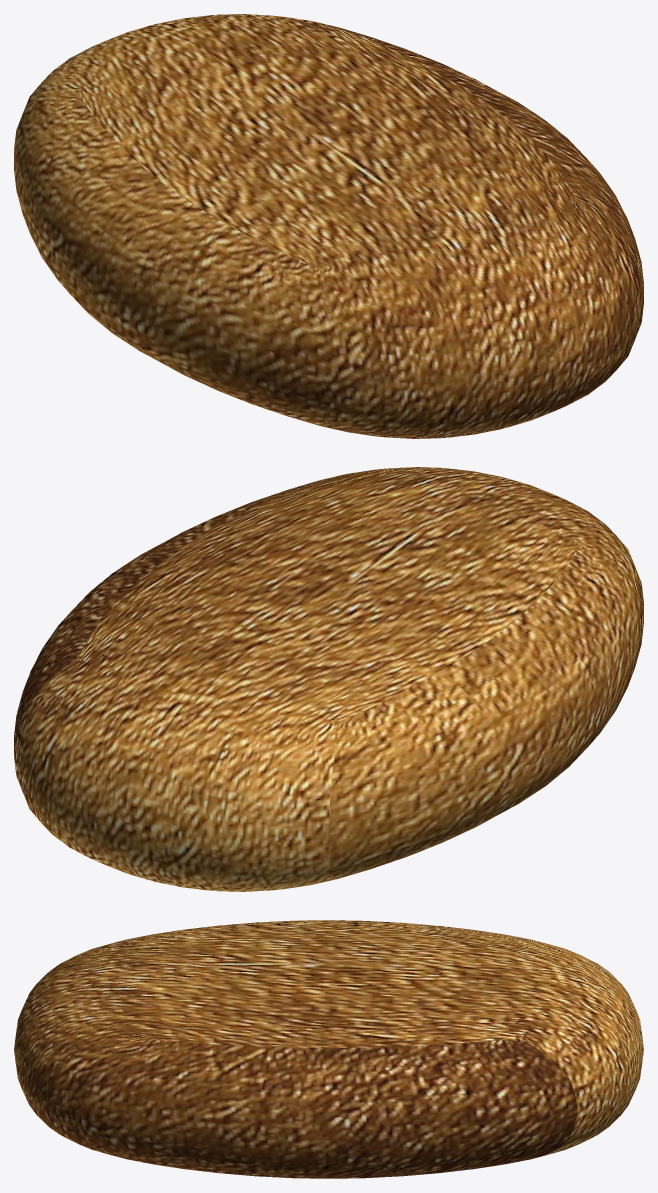
3 views of the same model, one above another, from view 1: azimuth 30°, elevation 25°; view 2: azimuth 150°, elevation 25°; view 3: azimuth 270°, elevation 25° (orthographic). The views are drawn at different scales.
Visible parts, largest first — view 1: pCube1; view 2: pCube1; view 3: pCube1.
Boxes of the visible parts, x1=… form: pCube1: x1=14, y1=14, x2=643, y2=438; pCube1: x1=14, y1=467, x2=643, y2=891; pCube1: x1=14, y1=920, x2=643, y2=1178.
Bounding box in the file's own units: 1.17 × 0.4696 × 1.71.
1 material, 1 textured.
